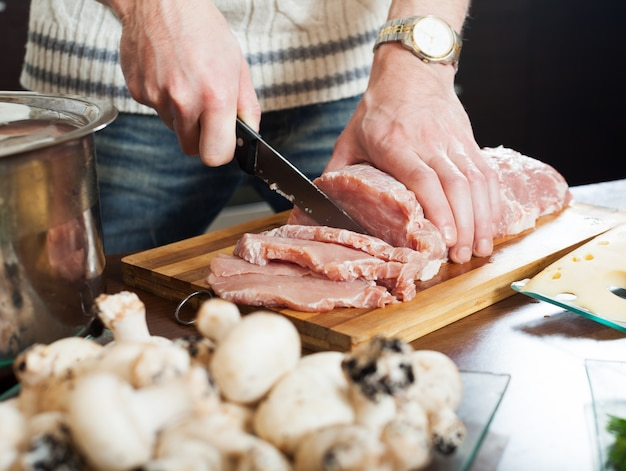knife: (233, 116, 378, 243)
